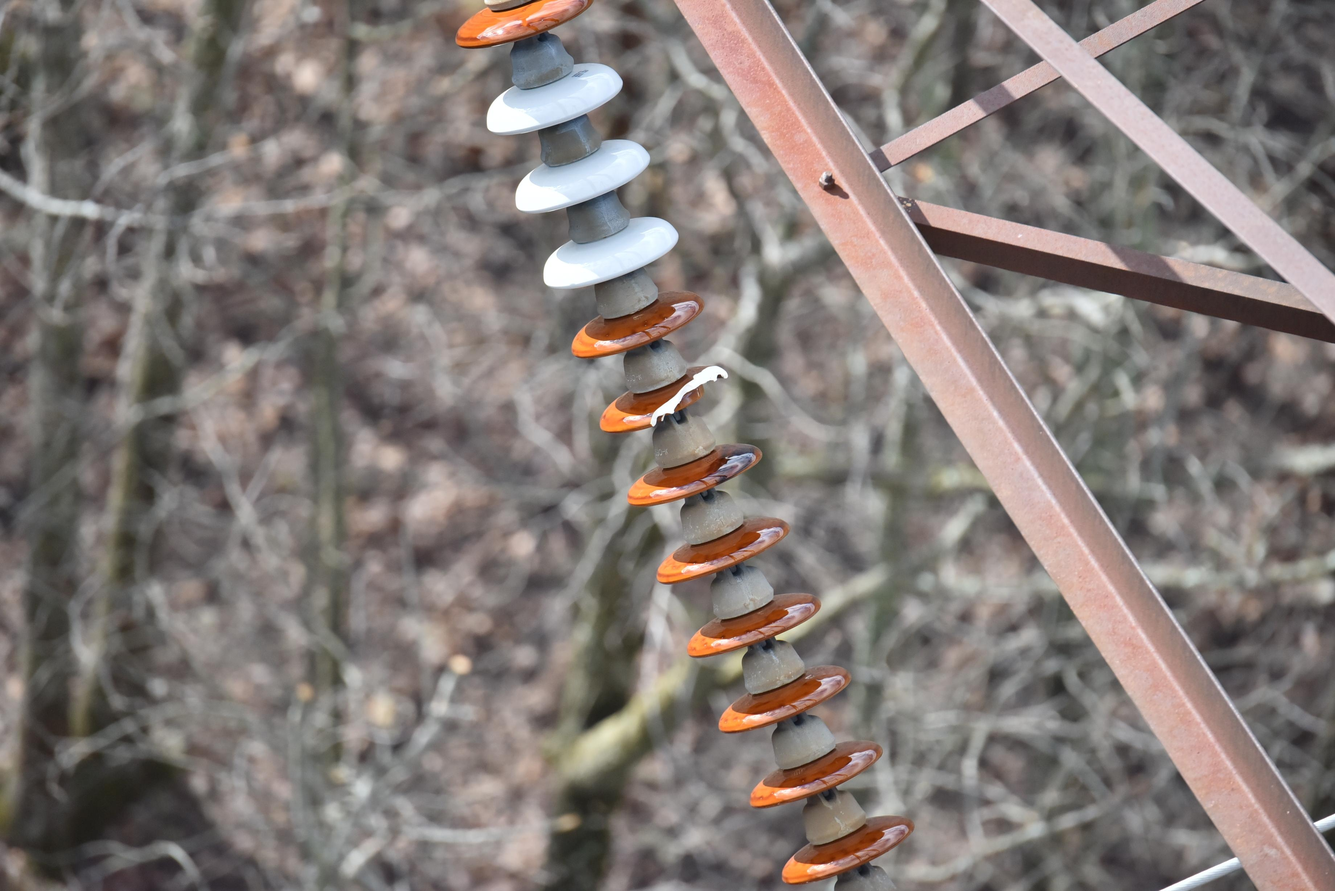damaged: (645, 365, 729, 428)
insulator: (451, 0, 914, 891)
